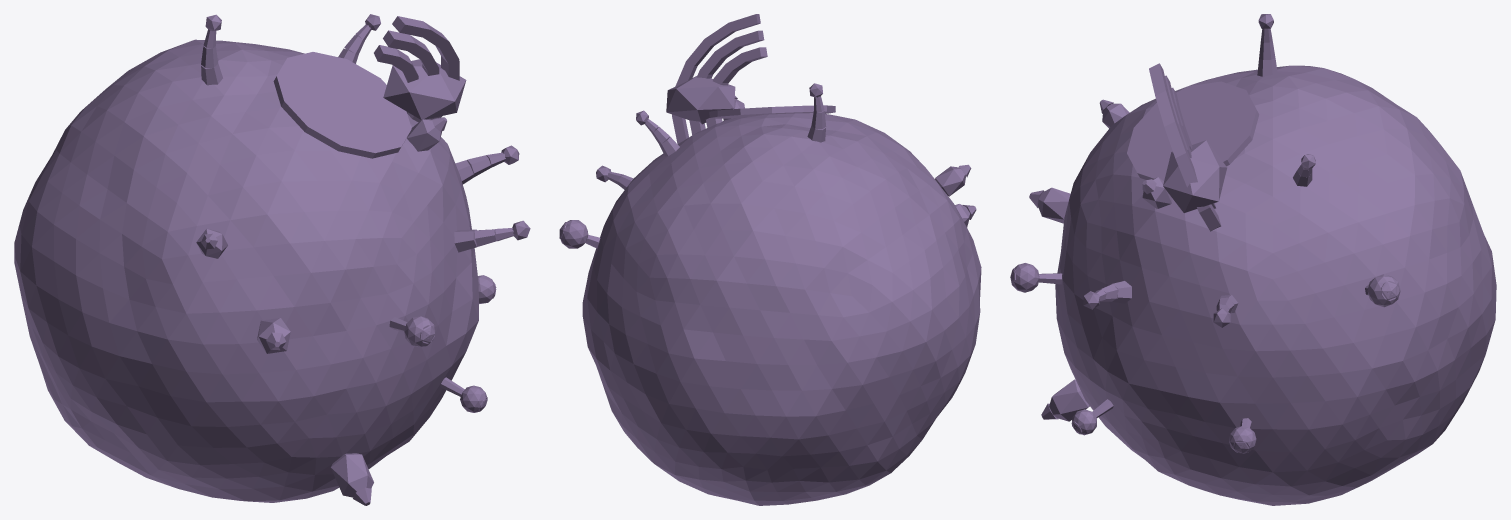
Rendered from Alien_09.fbx.
The picture shows the model from 3 angles, left to right: view 1: azimuth 30°, elevation 25°; view 2: azimuth 150°, elevation 25°; view 3: azimuth 270°, elevation 25°; orthographic projection. The views are drawn at different scales.
Parts seen in each view (by area): view 1: Alien_09; view 2: Alien_09; view 3: Alien_09.
Boxes of the visible parts, x1,y1,x2,y2 form: Alien_09: (14,14,530,505); Alien_09: (559,14,981,505); Alien_09: (1010,14,1496,505).
Size of the model in its own units: 6.64 by 6.92 by 6.65.
